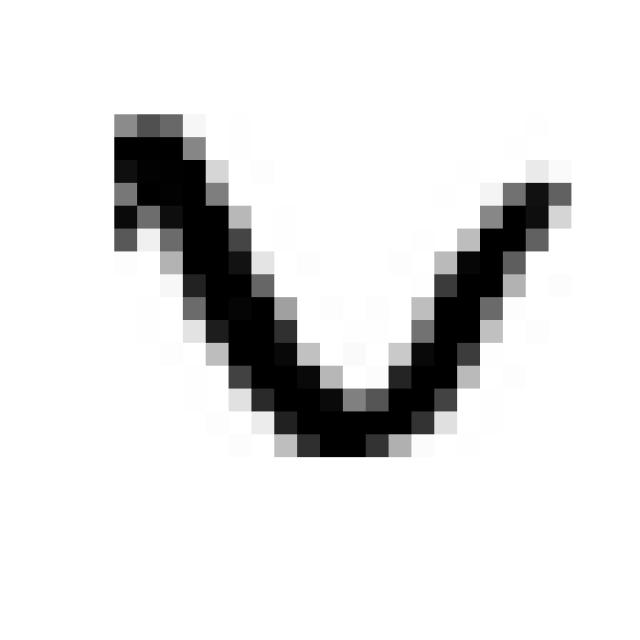7 -seven-: (93, 96, 590, 471)
